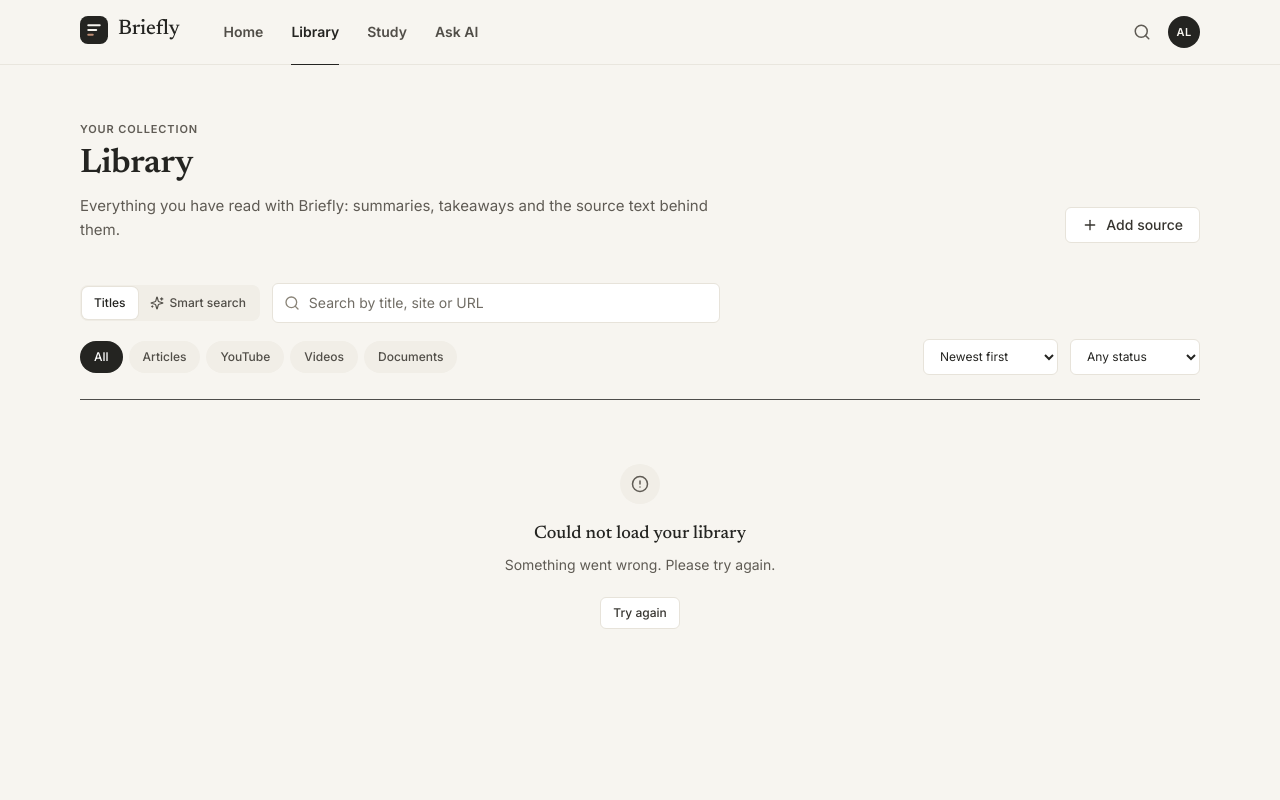
Test: Library › shows a retryable error state when loading fails
The width and height of the screenshot is (1280, 800).
Expected: the heading "Could not load your library" is shown, [534,520,746,548]
Click the button "Try again" at (640, 613), box [600,597,680,629]
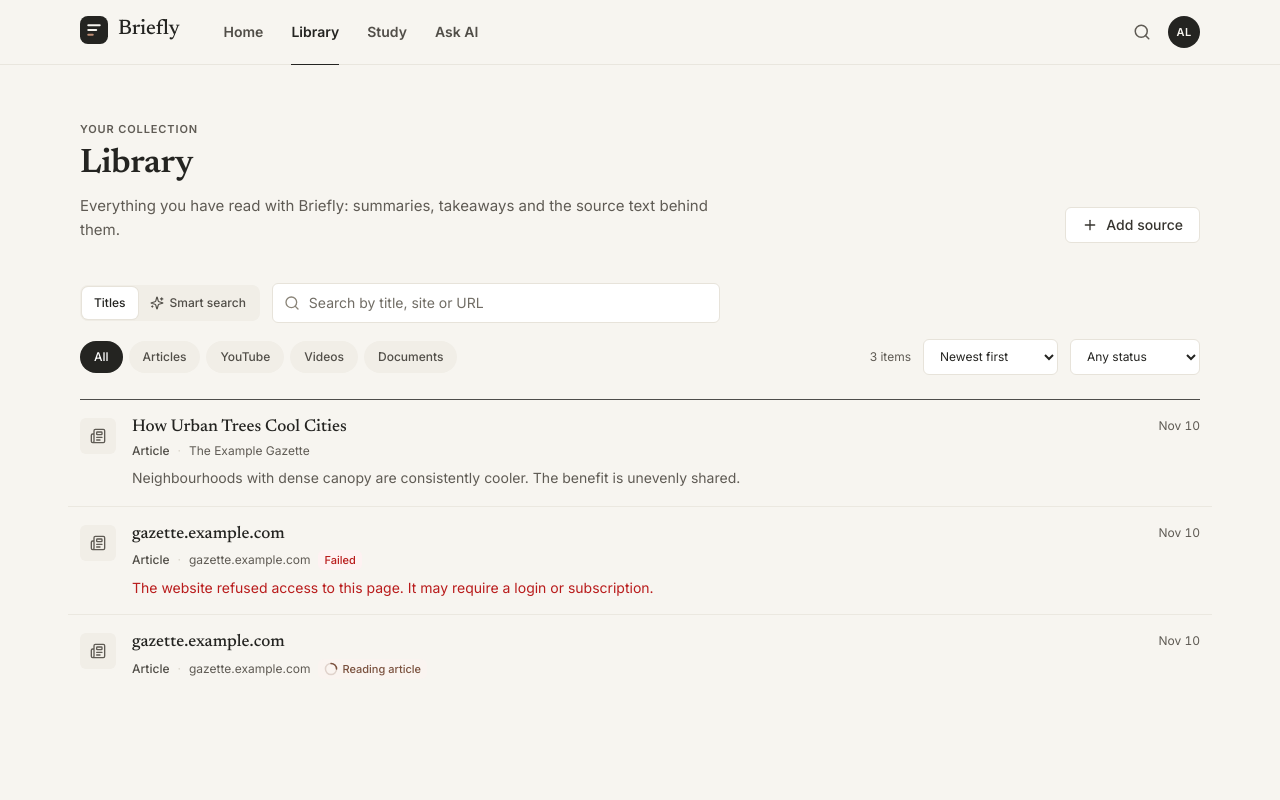
Expected: the link "How Urban Trees Cool Cities" is shown, [68,400,1212,506]
